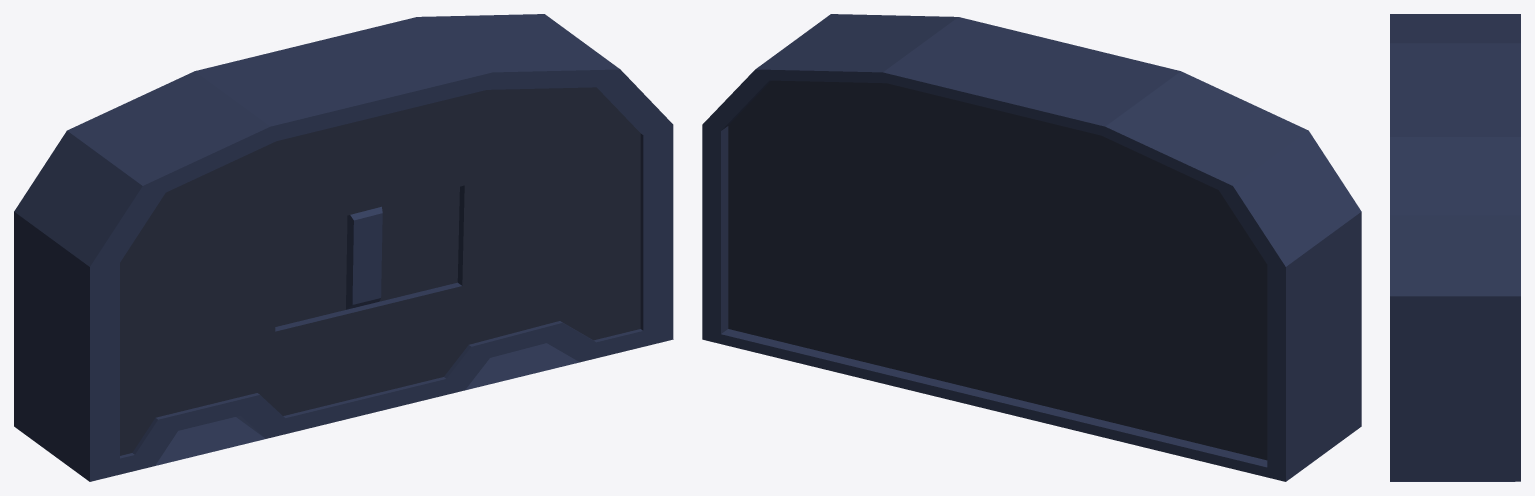
The model's file is COSOQUEPARACARROS.fbx.
The picture shows the model from 3 angles, left to right: view 1: azimuth 30°, elevation 25°; view 2: azimuth 150°, elevation 25°; view 3: azimuth 270°, elevation 25°; orthographic projection. The views are drawn at different scales.
Visible parts, largest first — view 1: Cube; view 2: Cube; view 3: Cube.
Boxes of the visible parts, bbox=[...] form: Cube: bbox=[14, 14, 673, 481]; Cube: bbox=[702, 14, 1361, 481]; Cube: bbox=[1390, 14, 1520, 481].
Bounding box in the file's own units: 388 × 198 × 87.31.
